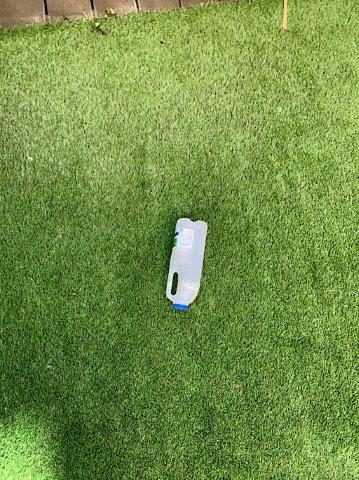botolplastik: (166, 218, 206, 309)
